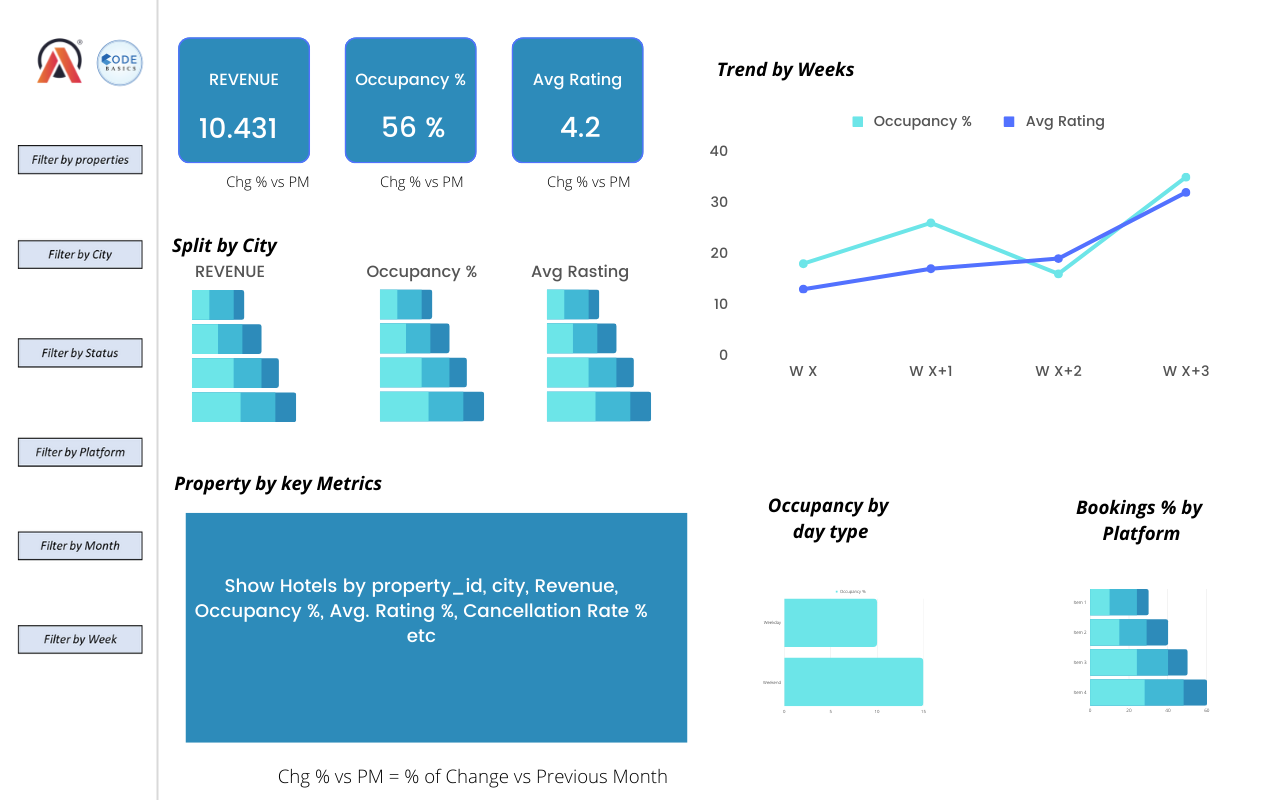

This screenshot's page, from the dashboard's own definition file:
{"tool":"powerbi","page":{"name":"Overall","canvas":[1280,760],"ordinal":0},"visuals":[{"type":"shape","box":[0,0,1280,134.4],"z":0},{"type":"textbox","box":[0,0,1278.1,75.7],"z":0,"group":"g1"},{"type":"group","id":"g1","title":"visuals","box":[0,0,1278.1,727],"z":1000},{"type":"shape","box":[1058.5,70.1,208.3,136.3],"z":1000,"group":"g1"},{"type":"shape","box":[839.3,70.1,208.3,136.3],"z":2000,"group":"g1"},{"type":"textbox","box":[443.5,163.2,145.1,44.5],"z":2000},{"type":"shape","box":[620.1,73.8,208.3,132.5],"z":3000,"group":"g1"},{"type":"textbox","box":[880.3,161.6,145.1,44.5],"z":3000},{"type":"shape","box":[404.7,73.8,204.5,132.5],"z":4000,"group":"g1"},{"type":"textbox","box":[1094.7,156.6,145.1,44.5],"z":4000},{"type":"textbox","box":[224.2,164.9,145.1,39.6],"z":5000},{"type":"clusteredBarChart","title":"Revenue by City","fields":{"Category":["dim_hotels.city"],"Y":["resource_measures.revenue"]},"box":[185.9,222.1,181,251.7],"z":5000,"group":"g1"},{"type":"card","fields":{"Values":["resource_measures.Occupancy %"]},"box":[454.4,96.6,119.3,64.4],"z":6000,"group":"g1"},{"type":"textbox","box":[654.5,163.2,145.1,44.5],"z":6000},{"type":"textbox","box":[802.3,207.8,456.5,48.5],"z":6500},{"type":"textbox","box":[24.7,727,1063.3,33],"z":6750},{"type":"clusteredBarChart","title":"Occupancy % by City","fields":{"Category":["dim_hotels.city"],"Y":["resource_measures.Occupancy %"]},"box":[384.1,222.6,176.4,252.2],"z":7000,"group":"g1"},{"type":"gauge","fields":{"MaxValue":["resource_measures.max.rating"],"MinValue":["resource_measures.min.rating"],"Y":["resource_measures.avg.rating mod"]},"box":[643,87.4,161.6,84.1],"z":8000,"group":"g1"},{"type":"clusteredBarChart","title":"Avg. rating by City","fields":{"Category":["dim_hotels.city"],"Y":["resource_measures.Avg. rating"]},"box":[573.7,220.9,196.2,252.2],"z":9000,"group":"g1"},{"type":"image","box":[7.6,4.5,47,57.6],"z":10000},{"type":"donutChart","title":"Occupancy Raio","fields":{"Category":["dim_date.day_type"],"Y":["resource_measures.Occupancy %"]},"box":[1045.2,488,220.9,227.5],"z":10000,"group":"g1"},{"type":"areaChart","title":"Weekly Trend (Revenue & Rating)","fields":{"Category":["dim_date.week no"],"Y2":["resource_measures.Avg. rating"],"Y":["resource_measures.revenue"]},"box":[793.2,256.3,473.2,216.9],"z":11000,"group":"g1"},{"type":"clusteredBarChart","title":"Bookings by Platform","fields":{"Category":["fact_bookings.booking_platform"],"Y":["resource_measures.Total bookings"]},"box":[793,489.6,240.7,224.2],"z":12000,"group":"g1"},{"type":"pivotTable","fields":{"Rows":["dim_hotels.property_name","dim_hotels.city"],"Values":["resource_measures.revenue","resource_measures.Avg. rating","resource_measures.Occupancy %","resource_measures.Total bookings","resource_measures.CR","resource_measures.Total cancelled bookings","resource_measures.Total capacity"]},"box":[186.3,488,583.6,224.2],"z":13000,"group":"g1"},{"type":"shape","box":[8.2,69.2,168.2,657.8],"z":14000,"group":"g1"},{"type":"slicer","fields":{"Values":["dim_date.week no"]},"box":[14.8,618.2,155,74.2],"z":15000,"group":"g1"},{"type":"slicer","fields":{"Values":["dim_date.mmm yy.Variation.Date Hierarchy.Month"]},"box":[14.8,532.5,155,72.5],"z":16000,"group":"g1"},{"type":"slicer","fields":{"Values":["fact_bookings.booking_platform"]},"box":[15.1,435.8,155.3,81.4],"z":17000,"group":"g1"},{"type":"slicer","fields":{"Values":["fact_bookings.booking_status"]},"box":[15.1,341.5,155.3,75.7],"z":18000,"group":"g1"},{"type":"slicer","fields":{"Values":["dim_hotels.city"]},"box":[15.1,256.7,155.3,66.3],"z":19000,"group":"g1"},{"type":"slicer","fields":{"Values":["dim_hotels.property_name"]},"box":[15.1,171.9,155.3,66.3],"z":20000,"group":"g1"},{"type":"card","fields":{"Values":["resource_measures.LDC"]},"box":[1088.6,87.4,150,74.2],"z":21000,"group":"g1"},{"type":"card","fields":{"Values":["resource_measures.CR"]},"box":[869.1,77.6,155.3,102.2],"z":22000,"group":"g1"},{"type":"shape","box":[185.6,72,208.3,134.4],"z":23000,"group":"g1"},{"type":"card","fields":{"Values":["resource_measures.revenue"]},"box":[206.7,87.4,163.2,74.2],"z":24000,"group":"g1"},{"type":"image","title":"atliq","box":[15.1,90.4,77.6,73.8],"z":25000,"group":"g1"},{"type":"image","title":"codebasics","box":[85.2,90.4,85.2,77.6],"z":26000,"group":"g1"},{"type":"image","title":"three dot menu","box":[1213.7,15.1,64.4,47.3],"z":27000,"group":"g1"}]}

Visuals, with their boxes on the page's 1280x760 design canvas (x1, y1, x2, y2). These are canvas units, not pixel positions in the 1280x800 screenshot, which may show the page scaled, cropped or inside an application window:
shape: pyautogui.locateOnScreen(0, 0, 1280, 134)
textbox: pyautogui.locateOnScreen(0, 0, 1278, 76)
"visuals" group: pyautogui.locateOnScreen(0, 0, 1278, 727)
shape: pyautogui.locateOnScreen(1058, 70, 1267, 206)
shape: pyautogui.locateOnScreen(839, 70, 1048, 206)
textbox: pyautogui.locateOnScreen(444, 163, 589, 208)
shape: pyautogui.locateOnScreen(620, 74, 828, 206)
textbox: pyautogui.locateOnScreen(880, 162, 1025, 206)
shape: pyautogui.locateOnScreen(405, 74, 609, 206)
textbox: pyautogui.locateOnScreen(1095, 157, 1240, 201)
textbox: pyautogui.locateOnScreen(224, 165, 369, 204)
"Revenue by City" clusteredBarChart: pyautogui.locateOnScreen(186, 222, 367, 474)
card - resource_measures.Occupancy %: pyautogui.locateOnScreen(454, 97, 574, 161)
textbox: pyautogui.locateOnScreen(654, 163, 800, 208)
textbox: pyautogui.locateOnScreen(802, 208, 1259, 256)
textbox: pyautogui.locateOnScreen(25, 727, 1088, 760)
"Occupancy % by City" clusteredBarChart: pyautogui.locateOnScreen(384, 223, 560, 475)
gauge - resource_measures.max.rating x resource_measures.min.rating: pyautogui.locateOnScreen(643, 87, 805, 172)
"Avg. rating by City" clusteredBarChart: pyautogui.locateOnScreen(574, 221, 770, 473)
image: pyautogui.locateOnScreen(8, 4, 55, 62)
"Occupancy Raio" donutChart: pyautogui.locateOnScreen(1045, 488, 1266, 716)
"Weekly Trend (Revenue & Rating)" areaChart: pyautogui.locateOnScreen(793, 256, 1266, 473)
"Bookings by Platform" clusteredBarChart: pyautogui.locateOnScreen(793, 490, 1034, 714)
pivotTable - dim_hotels.property_name x dim_hotels.city: pyautogui.locateOnScreen(186, 488, 770, 712)
shape: pyautogui.locateOnScreen(8, 69, 176, 727)
slicer - dim_date.week no: pyautogui.locateOnScreen(15, 618, 170, 692)
slicer - dim_date.mmm yy.Variation.Date Hierarchy.Month: pyautogui.locateOnScreen(15, 532, 170, 605)
slicer - fact_bookings.booking_platform: pyautogui.locateOnScreen(15, 436, 170, 517)
slicer - fact_bookings.booking_status: pyautogui.locateOnScreen(15, 342, 170, 417)
slicer - dim_hotels.city: pyautogui.locateOnScreen(15, 257, 170, 323)
slicer - dim_hotels.property_name: pyautogui.locateOnScreen(15, 172, 170, 238)
card - resource_measures.LDC: pyautogui.locateOnScreen(1089, 87, 1239, 162)
card - resource_measures.CR: pyautogui.locateOnScreen(869, 78, 1024, 180)
shape: pyautogui.locateOnScreen(186, 72, 394, 206)
card - resource_measures.revenue: pyautogui.locateOnScreen(207, 87, 370, 162)
"atliq" image: pyautogui.locateOnScreen(15, 90, 93, 164)
"codebasics" image: pyautogui.locateOnScreen(85, 90, 170, 168)
"three dot menu" image: pyautogui.locateOnScreen(1214, 15, 1278, 62)
